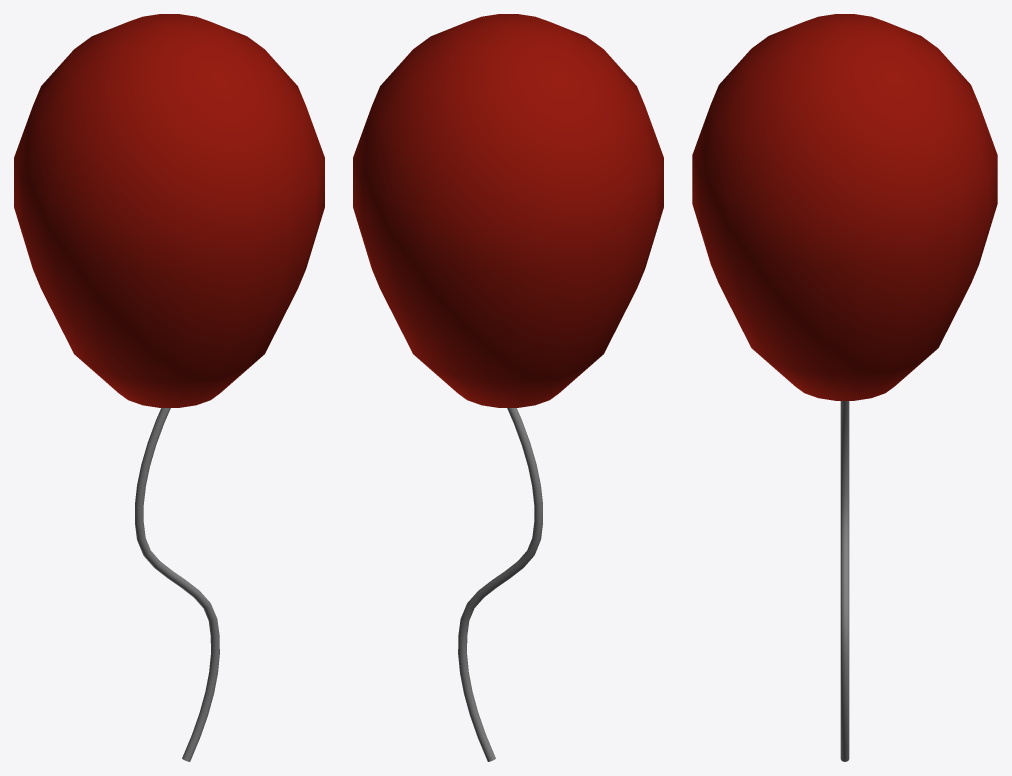
The model's file is SM_Ballon.fbx.
The picture shows the model from 3 angles, left to right: view 1: azimuth 30°, elevation 25°; view 2: azimuth 150°, elevation 25°; view 3: azimuth 270°, elevation 25°; orthographic projection.
Parts seen in each view (by area): view 1: Sphere001, Line002; view 2: Sphere001, Line002; view 3: Sphere001, Line002.
Boxes of the visible parts, left/top/right/bottom form: Sphere001: left=14, top=14, right=324, bottom=407; Line002: left=135, top=408, right=219, bottom=761; Sphere001: left=353, top=14, right=663, bottom=407; Line002: left=458, top=408, right=542, bottom=761; Sphere001: left=692, top=14, right=997, bottom=400; Line002: left=840, top=401, right=849, bottom=761.
Bounding box in the file's own units: 126 × 336 × 128.
